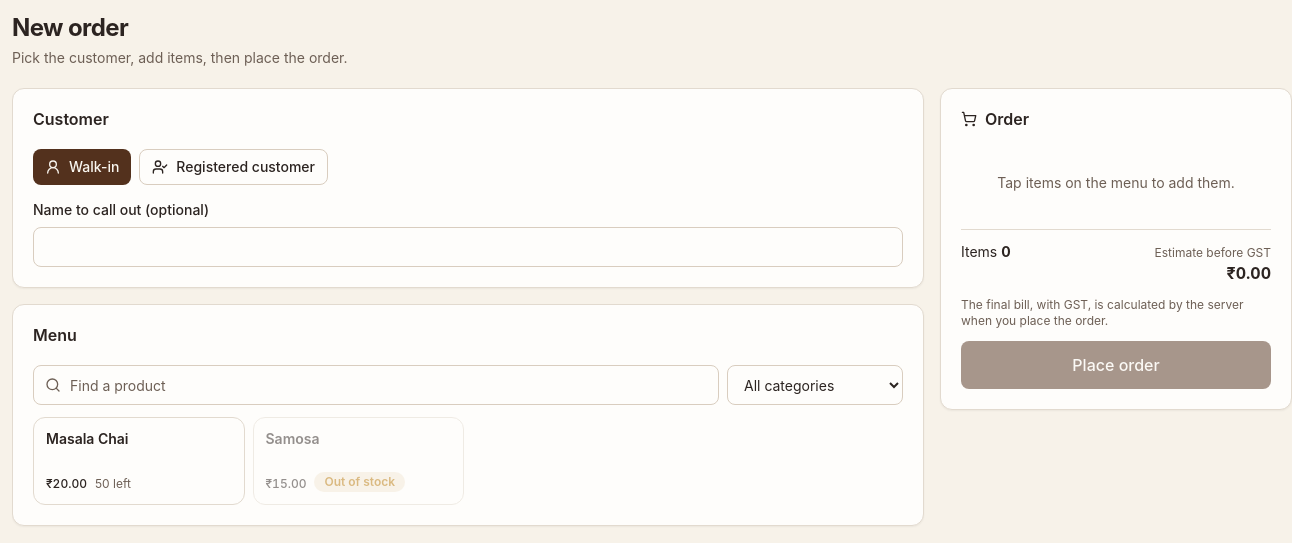
Scenario: POS › adds products to the order and shows a labelled estimate
Click the button "Masala Chai ₹20.00 50 left" at (139,461), box left=33, top=417, right=244, bottom=505
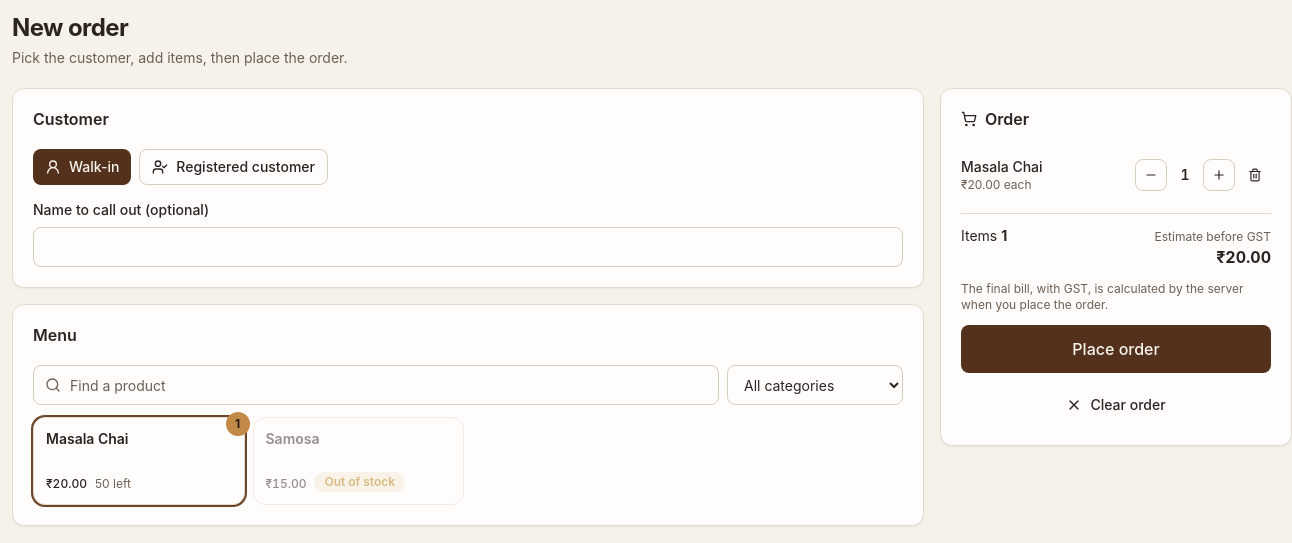
Click the button "Masala Chai ₹20.00 50 left 1" at (139,461), box left=33, top=417, right=244, bottom=505
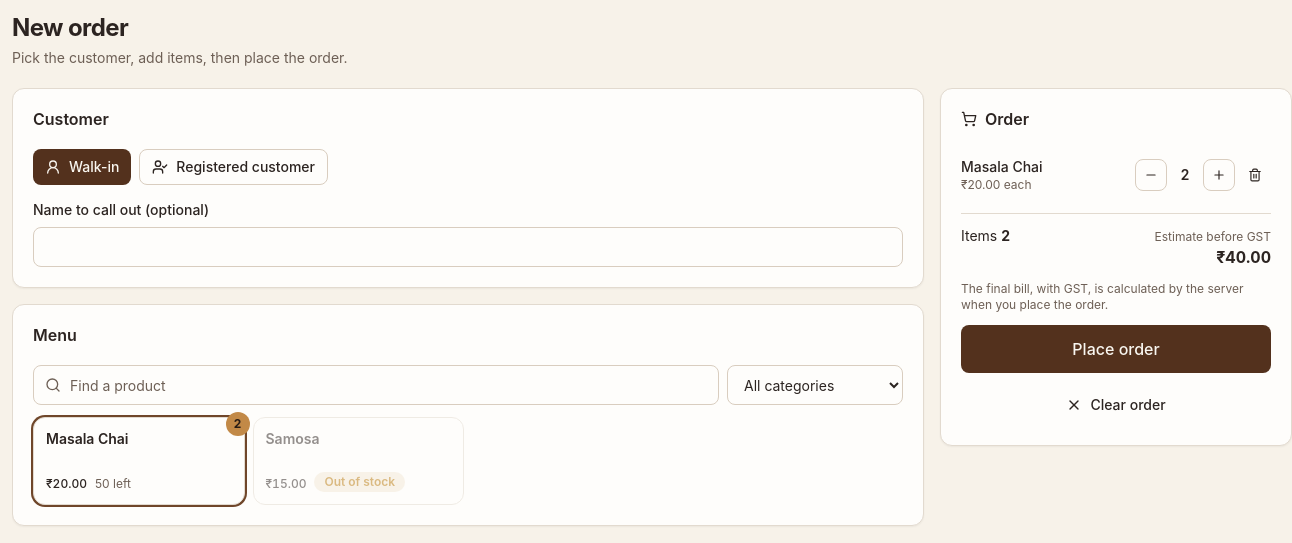
Check: the text "Estimate before GST" is shown, box left=1154, top=229, right=1271, bottom=245
Check: the text named "Masala Chai quantity" reads "2", box left=1180, top=166, right=1190, bottom=183
Check: the text with test id "estimate" reads "₹40.00", box left=1216, top=247, right=1271, bottom=267
